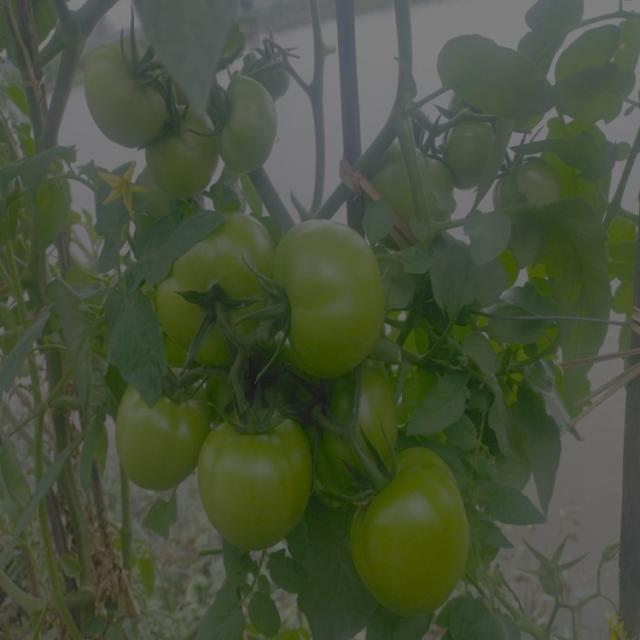tomato: (149, 211, 273, 369), (351, 450, 469, 615), (274, 218, 387, 379), (204, 393, 317, 551), (108, 365, 204, 491), (80, 33, 178, 135), (364, 127, 461, 227), (326, 382, 409, 476), (213, 70, 286, 175), (151, 104, 220, 193), (445, 110, 504, 192), (249, 35, 297, 93)
